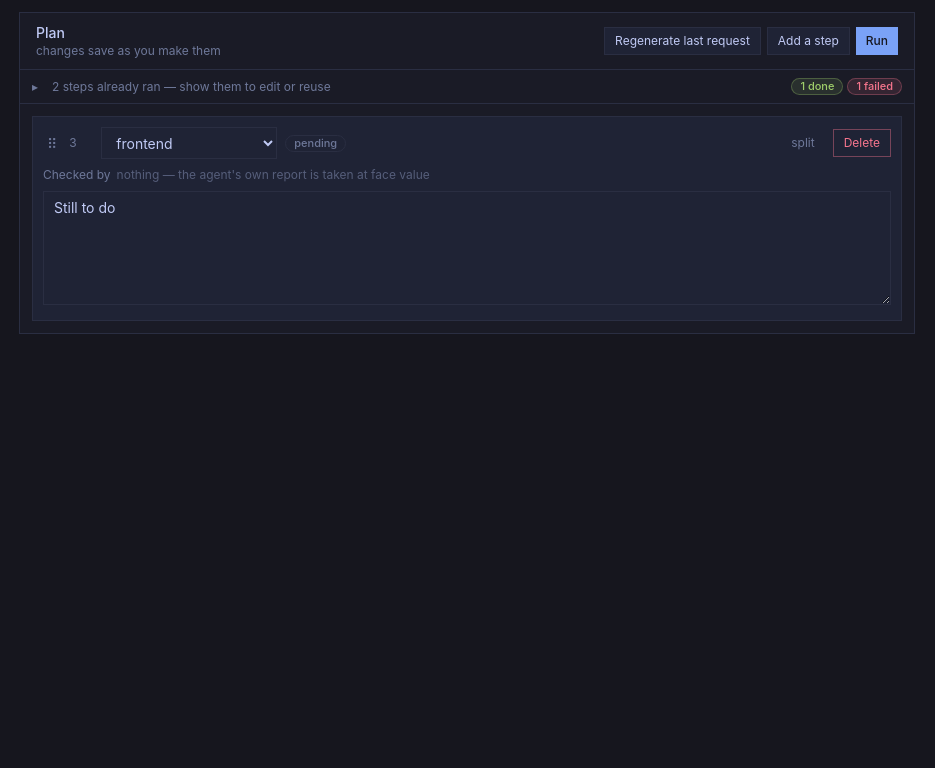
steps that already ran › folds them away but says they are there and can be reused
The width and height of the screenshot is (935, 768).
Expected: the text box showing "Still to do" is shown, [43,191,891,305]
Expected: the field showing "Set the project up" is not shown
Click the text "2 steps already ran — show them to edit or reuse".
click(191, 86)  # box [52,78,331,94]
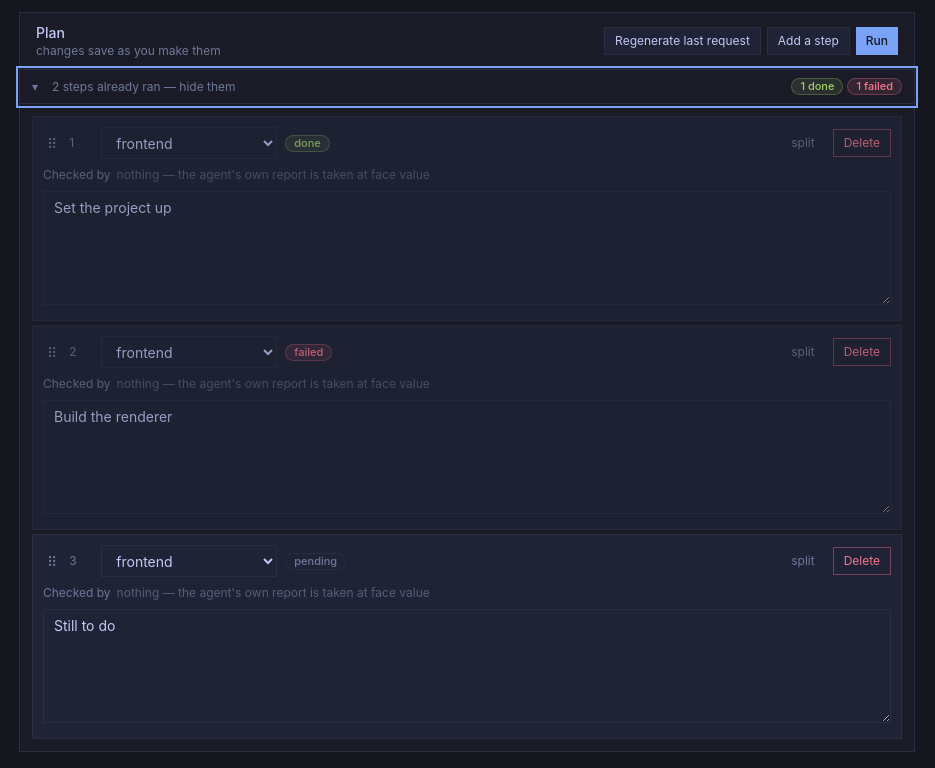
Result: the 1st text box showing "Set the project up" is shown at [43,191,891,305]
